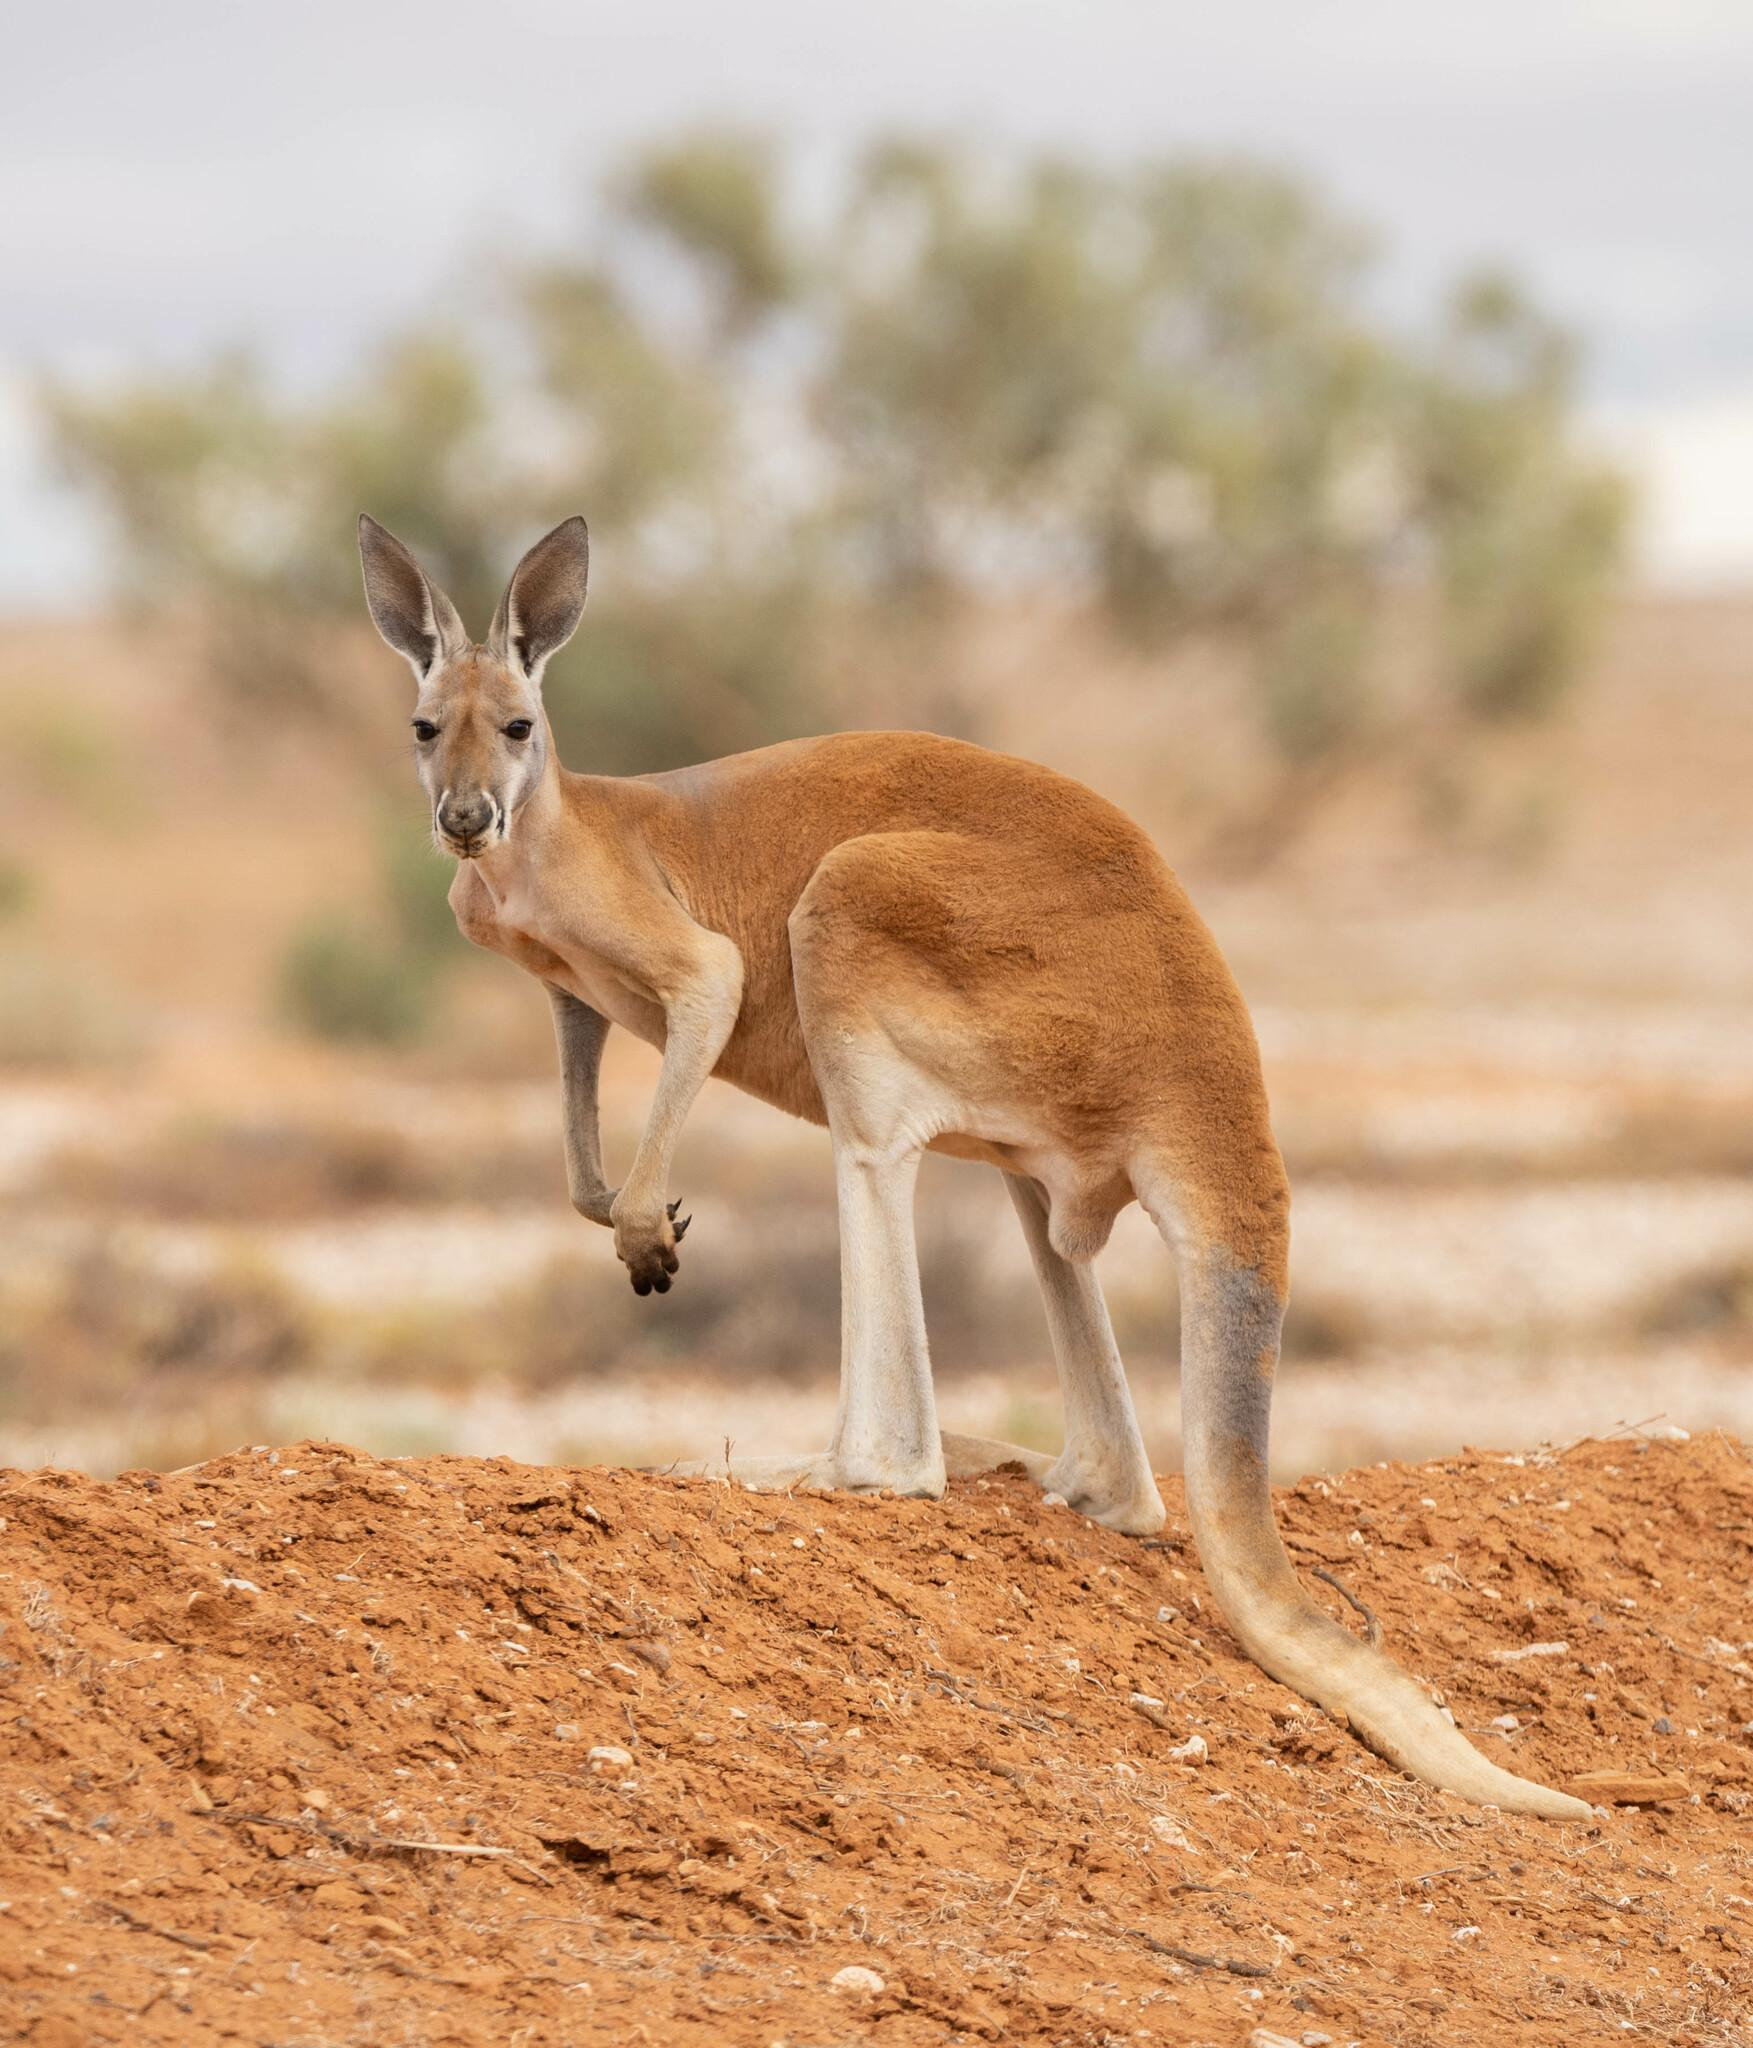Red kangaroo: (346, 504, 1603, 1853)
